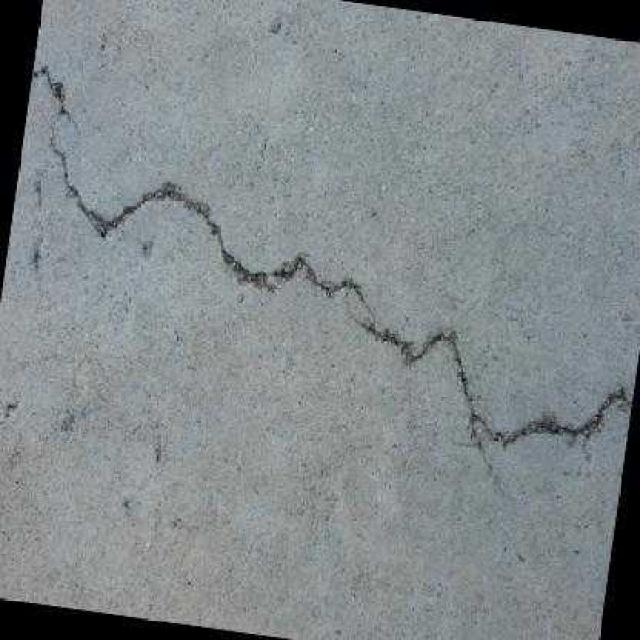D00: (30, 60, 633, 449)
